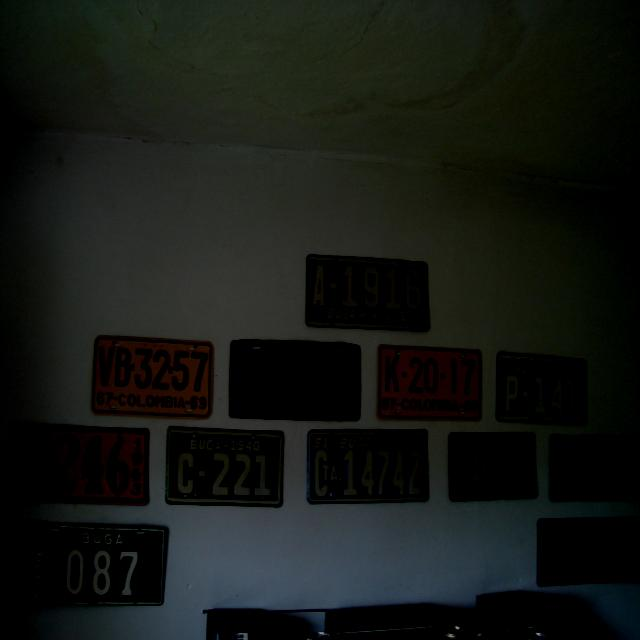placa: (18, 511, 169, 611), (6, 418, 153, 509), (228, 334, 363, 426), (303, 249, 432, 337), (89, 332, 215, 422), (372, 341, 485, 425), (534, 516, 640, 594), (494, 344, 590, 429), (445, 428, 541, 504), (548, 432, 640, 507)
